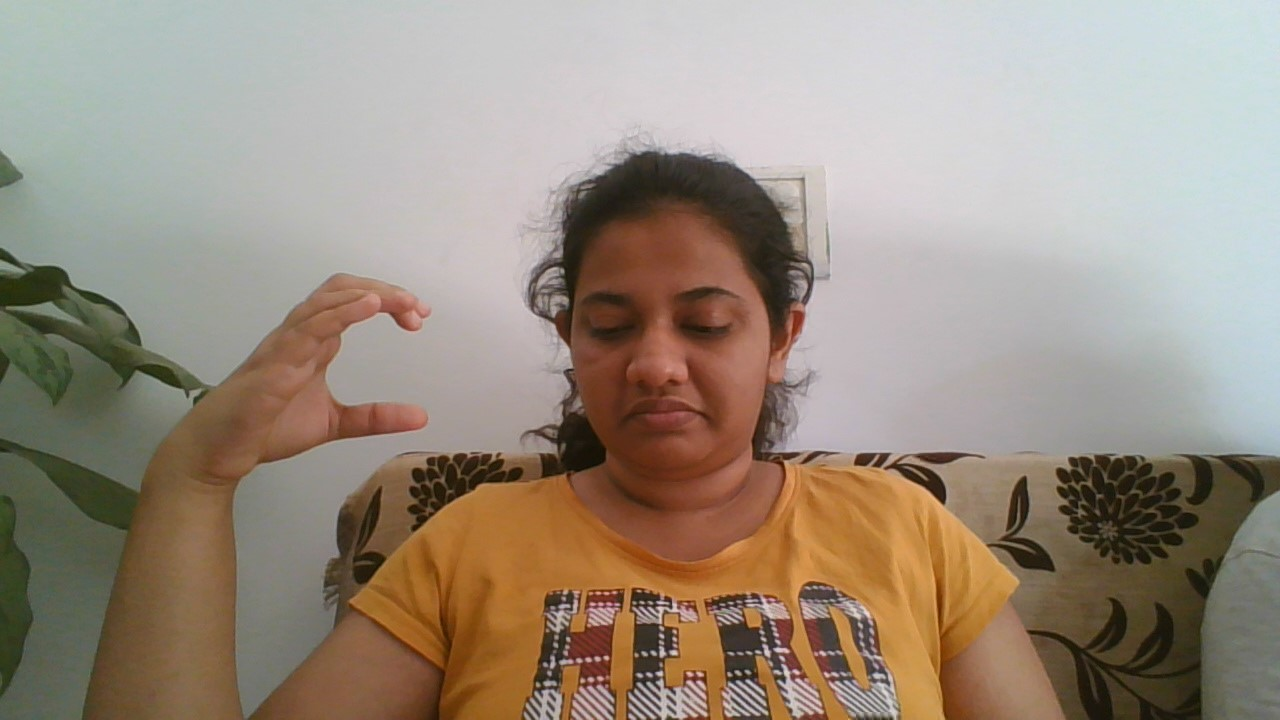c: (140, 268, 477, 494)
